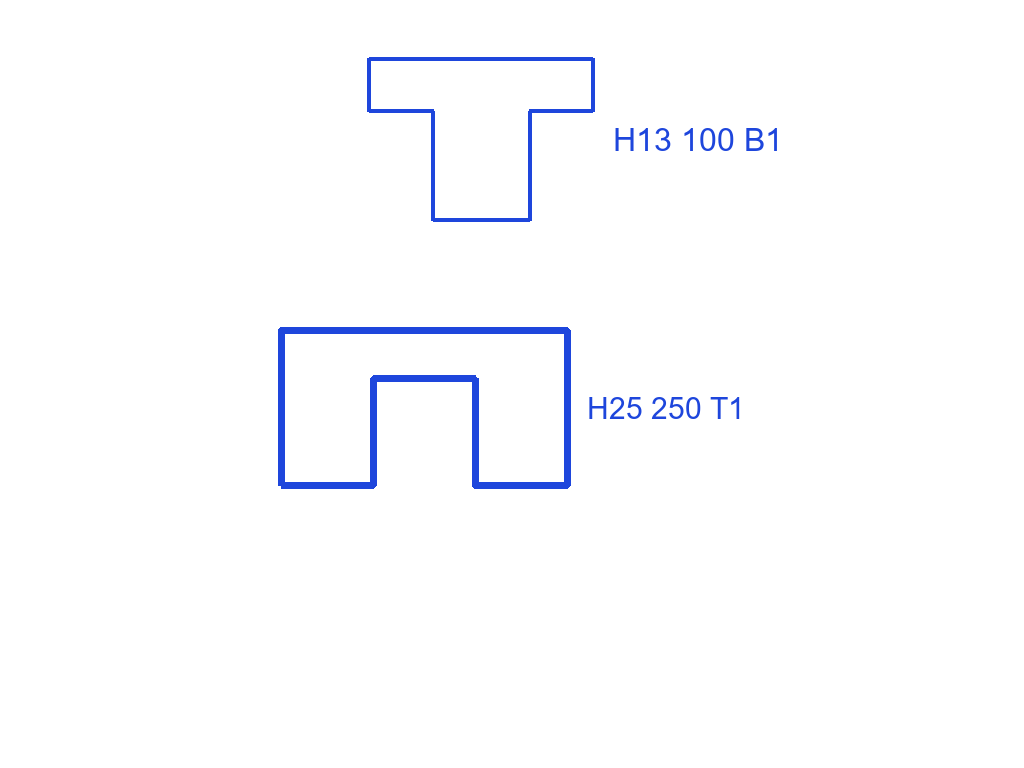shape: (276, 325, 573, 492), (366, 54, 597, 224)
text: (611, 126, 785, 153), (585, 395, 747, 421)
